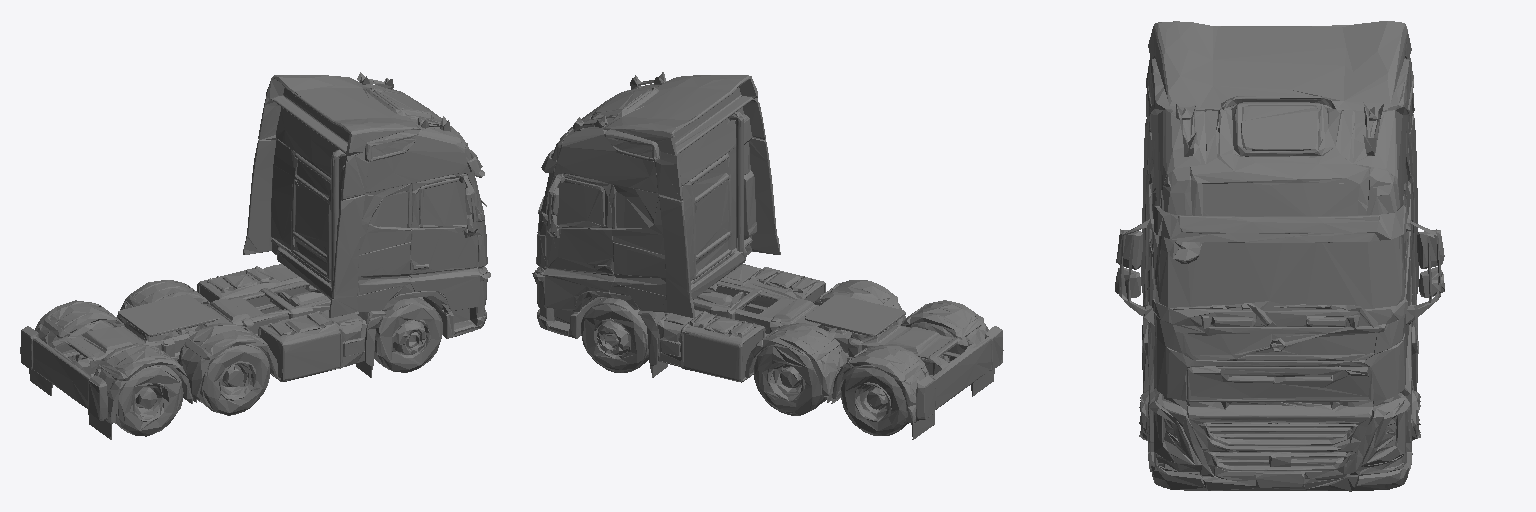
The robot description file, URDF, robot "truck":
<?xml version="1.0"?>
<robot name="truck">
  <!-- This is the truck body -->
  <link name="base_link">
    <visual>
      <origin xyz="0 0 0" rpy="0 0 1.5708"/> <!-- Adjust RPY if truck is sideways -->
      <geometry>
        <!-- Path to your STL -->
        <mesh filename="package://lidar_safety_layer/config/Truck_Model.stl" scale="2.5 2.5 2.5"/>
      </geometry>
      <material name="gray">
        <color rgba="0.5 0.5 0.5 1.0"/>
      </material>
    </visual>
  </link>

  <!-- This link matches your LiDAR frame -->
  <link name="velodyne"/>

  <!-- Position the LiDAR on the truck (Adjust XYZ) -->
  <joint name="truck_to_lidar" type="fixed">
    <parent link="base_link"/>
    <child link="velodyne"/>
    <!-- Change Z to the height of your truck (e.g., 2.5 meters) -->
    <!-- Change X if the lidar is at the front or back -->
    <origin xyz="1.0 0.0 1.5" rpy="0 0 0"/> 
  </joint>
</robot>

--- Render facts (derived) ---
The picture shows the robot from 3 angles, left to right: view 1: azimuth 30°, elevation 25°; view 2: azimuth 150°, elevation 25°; view 3: azimuth 270°, elevation 25°; orthographic projection.
Robot: truck — 2 links, 1 joints (1 fixed); root link base_link; default pose: every joint at zero.
Links seen in each view (by area): view 1: base_link; view 2: base_link; view 3: base_link.
Boxes of the visible links, x1,y1,x2,y2 form: base_link: (20,72,490,439); base_link: (532,72,1003,439); base_link: (1115,21,1444,491).
Size in the robot's own frame: 2.58 by 1.17 by 1.58 metres.
Meshes: 1 distinct files referenced, 1 mesh visuals loaded (1 binary STL).
